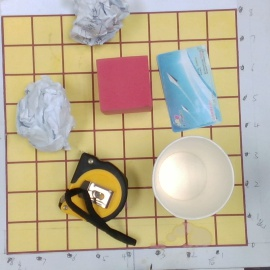card: (157, 45, 223, 135)
cup: (152, 136, 236, 221)
